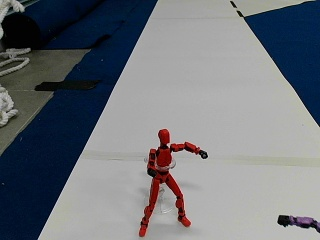pedestrian: (140, 130, 205, 235)
